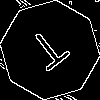T: (25, 25, 77, 80)
